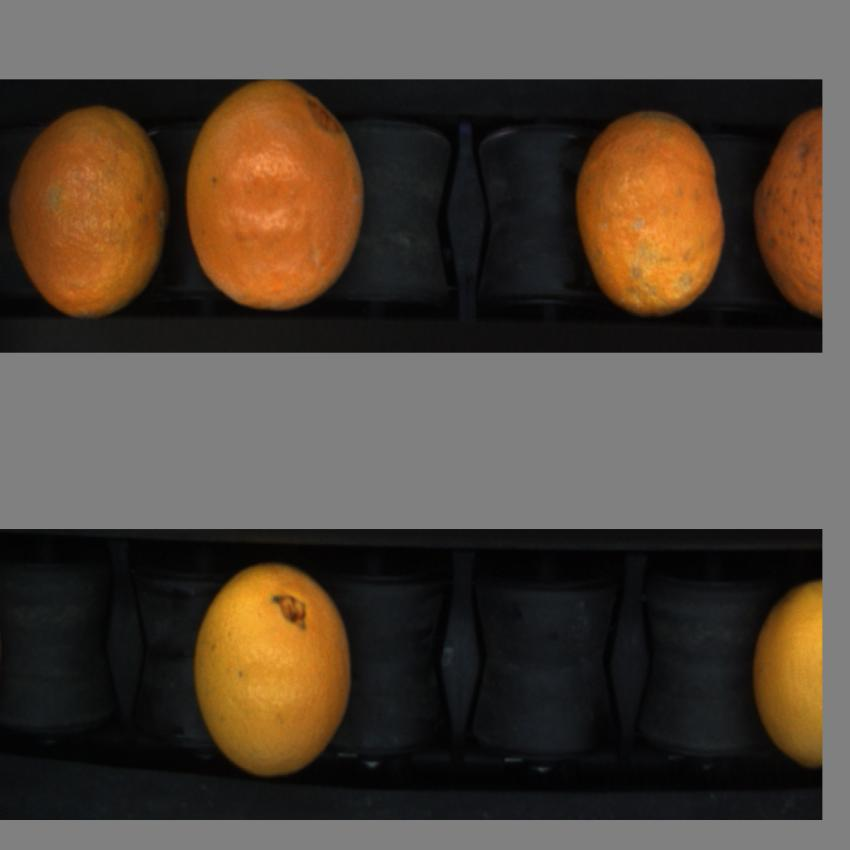Buen estado: (182, 549, 361, 796), (5, 102, 176, 324), (561, 103, 732, 320), (750, 96, 822, 335), (746, 566, 824, 784)
Mal estado: (182, 79, 372, 325)
